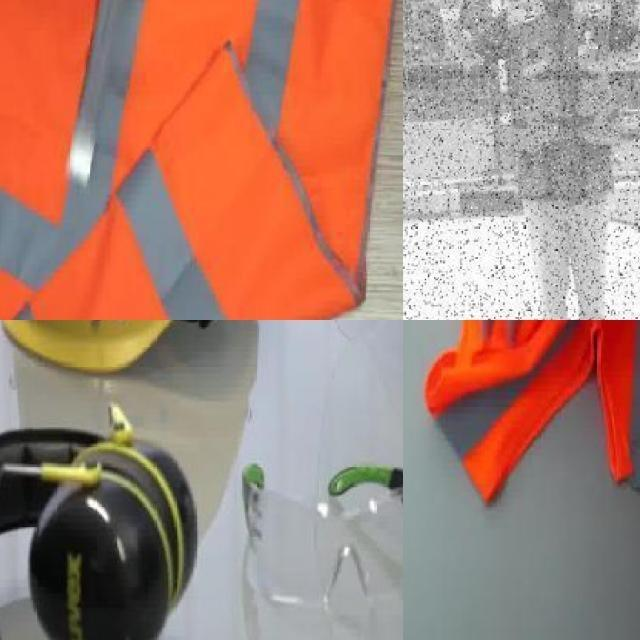apron: (431, 0, 468, 26)
